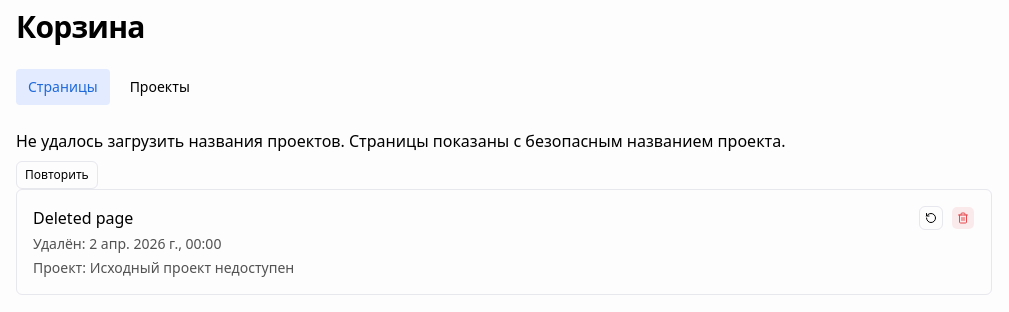
Test: корзина › оставляет страницы видимыми с fallback и retry при ошибке корзины проектов
Expected: the text "Deleted page" is shown, [33, 207, 133, 229]
Expected: the text "Проект: Исходный проект недоступен" is shown, [33, 258, 294, 278]
Click the button "Повторить": (57, 175) [16, 161, 98, 189]
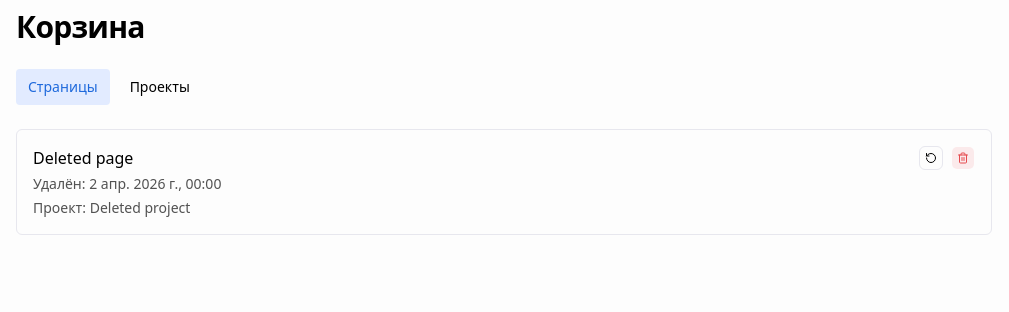
Expected: the text "Deleted page" is shown, [33, 147, 133, 169]
Expected: the text "Проект: Deleted project" is shown, [33, 198, 190, 217]
